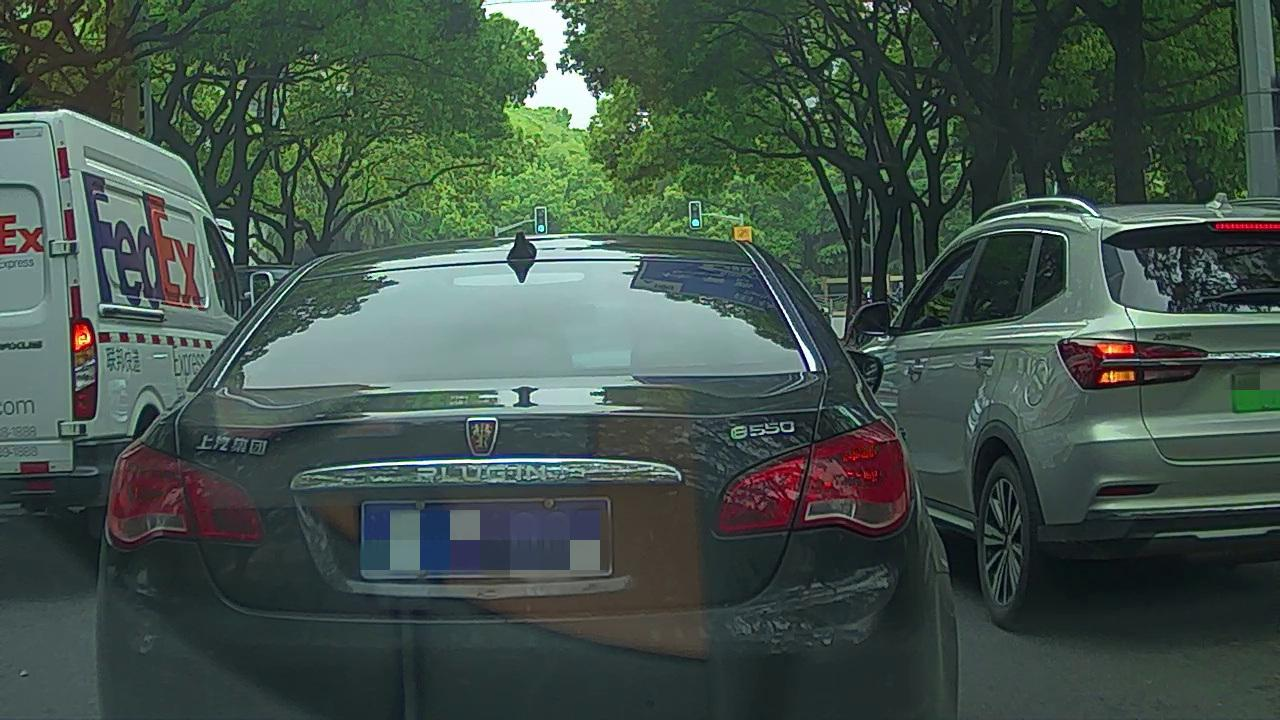traffic_light: (690, 201, 702, 229), (536, 208, 546, 234)
